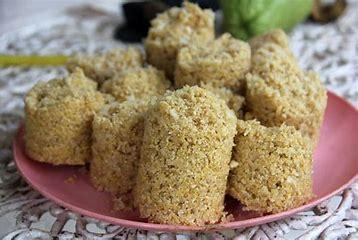Pittu: (23, 18, 330, 218)
